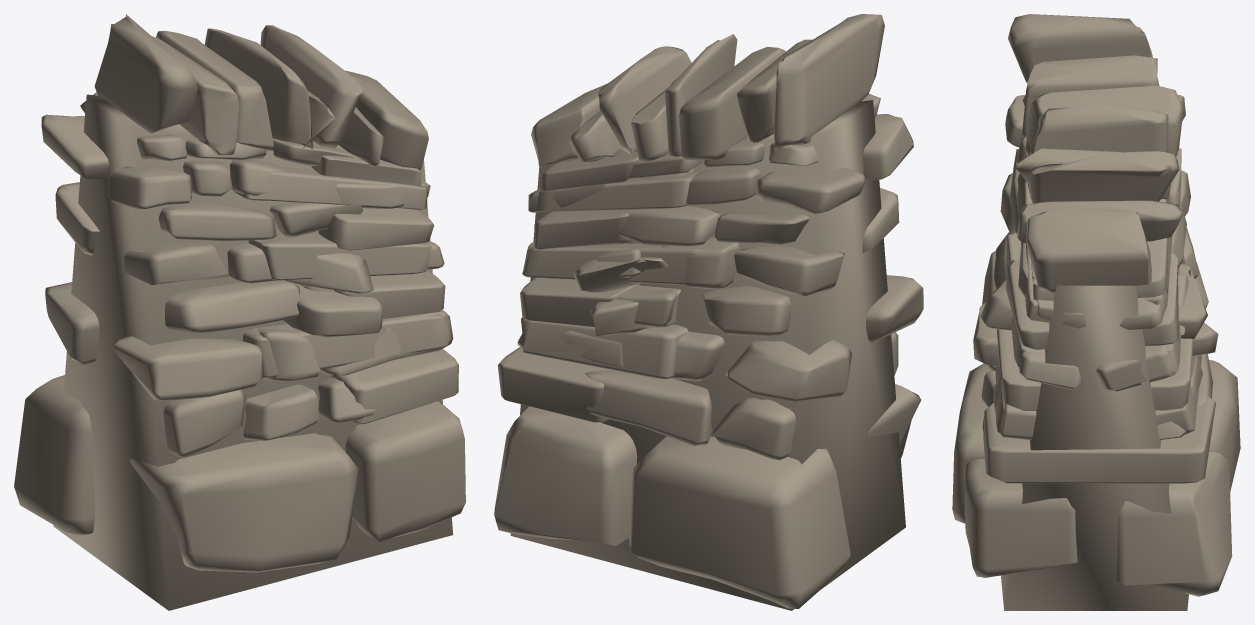
File: boundary.dry_stone.end_b.glb
3 views of the same model, side by side, from view 1: azimuth 30°, elevation 25°; view 2: azimuth 150°, elevation 25°; view 3: azimuth 270°, elevation 25° (orthographic). The views are drawn at different scales.
Visible parts, largest first — view 1: main__stone_a98; view 2: main__stone_a98; view 3: main__stone_a98.
Part boxes in pixels (<box>): main__stone_a98: <box>14,14,465,610</box>; main__stone_a98: <box>494,14,923,610</box>; main__stone_a98: <box>952,14,1240,610</box>.
Bounding box in the file's own units: 1.08 × 1.67 × 0.9167.
